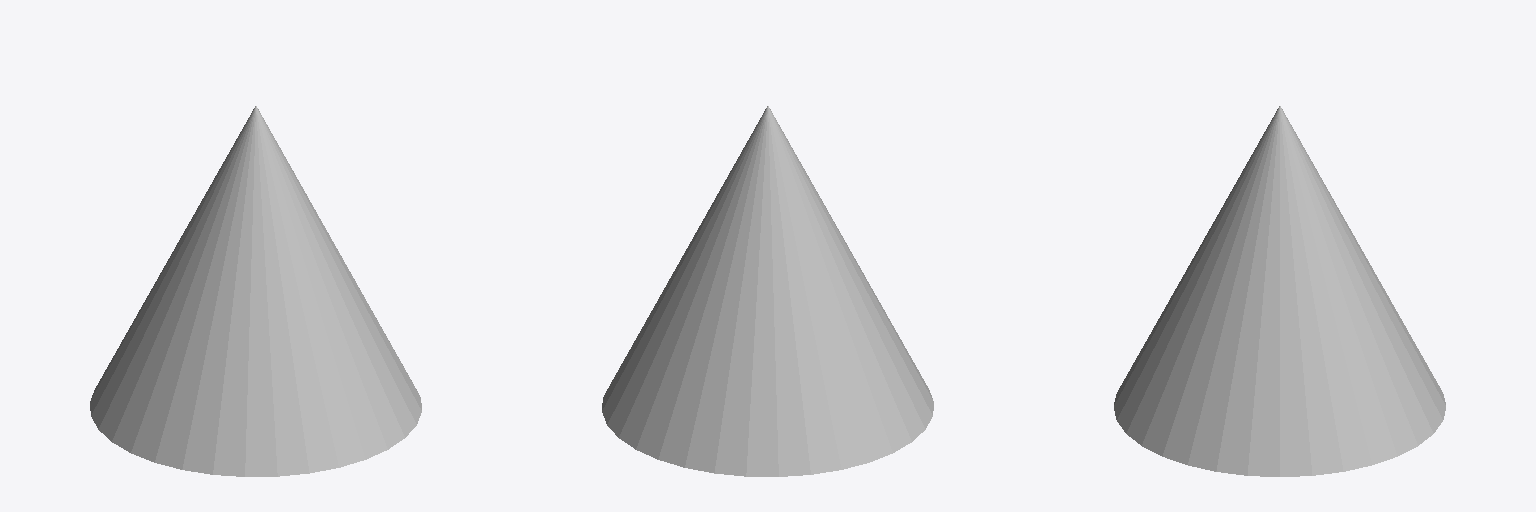
The model's file is base link simple.OBJ.
The picture shows the model from 3 angles: view 1: azimuth 30°, elevation 25°; view 2: azimuth 150°, elevation 25°; view 3: azimuth 270°, elevation 25°; orthographic projection.
Parts seen in each view (by area): view 1: /ambf/env/psm1/base_link_simple_base_link; view 2: /ambf/env/psm1/base_link_simple_base_link; view 3: /ambf/env/psm1/base_link_simple_base_link.
Part boxes in pixels (bbox=[...]): /ambf/env/psm1/base_link_simple_base_link: bbox=[90, 106, 421, 476]; /ambf/env/psm1/base_link_simple_base_link: bbox=[602, 106, 933, 476]; /ambf/env/psm1/base_link_simple_base_link: bbox=[1114, 106, 1445, 476].
Bounding box in the file's own units: 0.02 × 0.02 × 0.02.